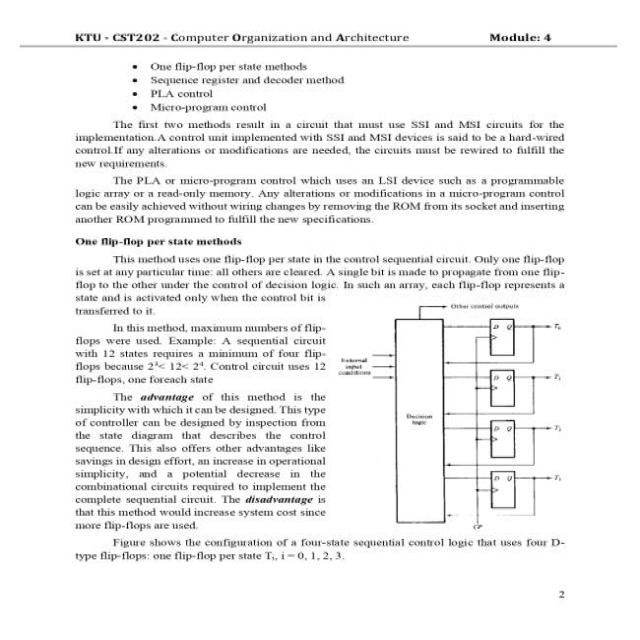Figure Detection - v3 Dataset Version2: (335, 292, 579, 530)
